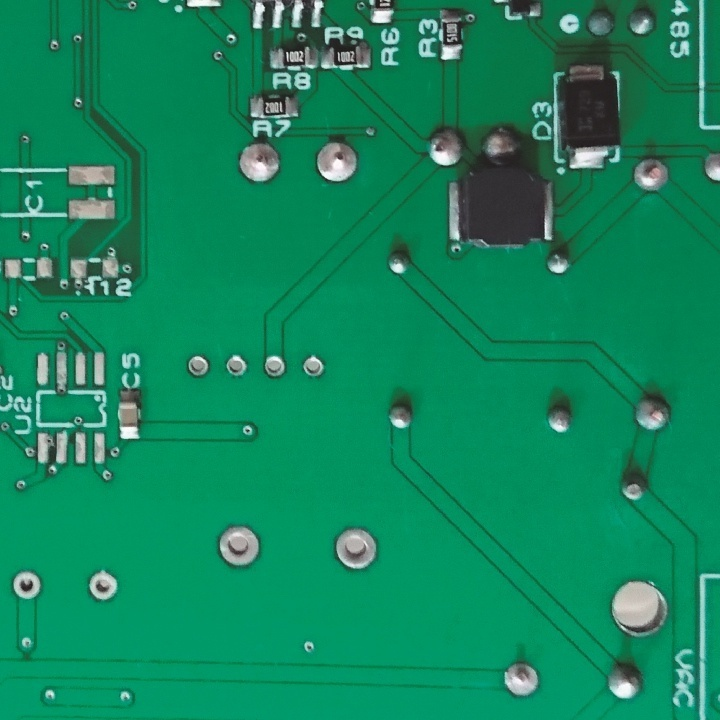F: (214, 521, 264, 572), (313, 138, 364, 186), (330, 527, 382, 573), (233, 138, 284, 184), (498, 658, 539, 701), (630, 154, 670, 193), (86, 569, 119, 604), (10, 571, 46, 603), (184, 353, 213, 382), (261, 353, 290, 381), (299, 352, 325, 380), (223, 353, 248, 381)
